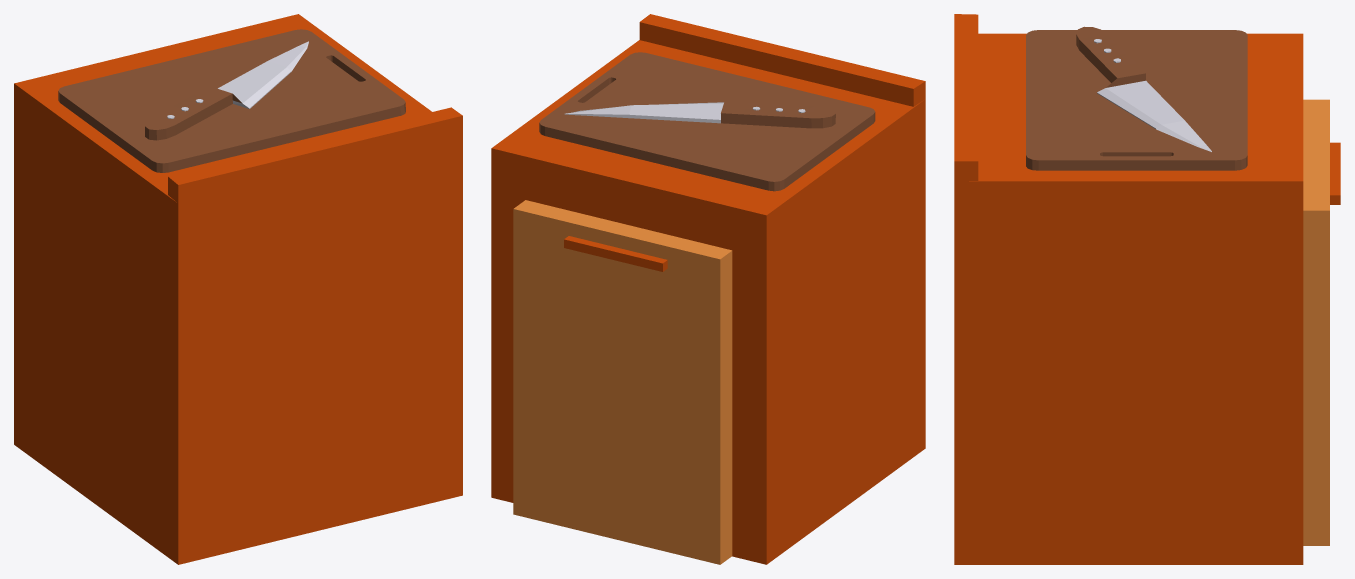
The model's file is BancadaDeCorte.fbx.
3 renders of one model, left to right at view 1: azimuth 30°, elevation 25°; view 2: azimuth 150°, elevation 25°; view 3: azimuth 270°, elevation 25°, orthographic. The views are drawn at different scales.
Parts seen in each view (by area): view 1: Bancada.002, Tabua de corte.002, Faca.001; view 2: Bancada.002, Tabua de corte.002, Faca.001; view 3: Bancada.002, Tabua de corte.002, Faca.001.
Boxes of the visible parts, bbox=[...] form: Bancada.002: bbox=[14, 14, 462, 564]; Tabua de corte.002: bbox=[58, 29, 405, 172]; Faca.001: bbox=[145, 41, 308, 140]; Bancada.002: bbox=[491, 14, 925, 564]; Tabua de corte.002: bbox=[539, 52, 875, 191]; Faca.001: bbox=[564, 101, 835, 128]; Bancada.002: bbox=[954, 14, 1340, 564]; Tabua de corte.002: bbox=[1026, 30, 1247, 170]; Faca.001: bbox=[1076, 26, 1211, 151].
Bounding box in the file's own units: 473 × 611 × 524.
